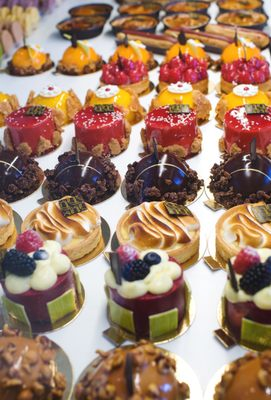salad: (122, 151, 204, 207)
sushi: (1, 229, 87, 335), (104, 246, 192, 342), (70, 341, 201, 400), (22, 195, 106, 264), (115, 200, 201, 267), (222, 246, 271, 345), (121, 151, 203, 207), (43, 153, 121, 205), (208, 151, 271, 211), (214, 202, 270, 269), (142, 103, 203, 159), (100, 41, 157, 96), (3, 104, 60, 158), (74, 104, 131, 158), (210, 351, 270, 400), (219, 41, 271, 94), (83, 84, 145, 126), (151, 82, 212, 124), (213, 84, 271, 128), (223, 104, 271, 156), (0, 154, 45, 203), (26, 88, 82, 126), (158, 54, 210, 94), (57, 41, 103, 75), (0, 198, 19, 261)
